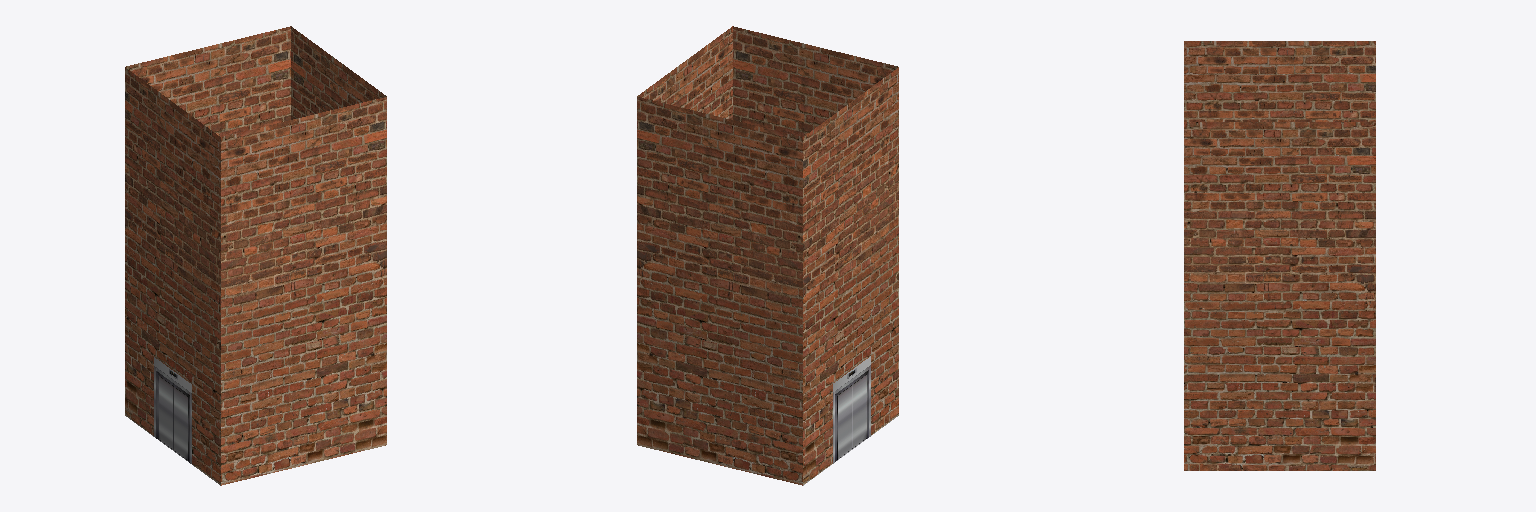
3 views of the same model, side by side, from view 1: azimuth 30°, elevation 25°; view 2: azimuth 150°, elevation 25°; view 3: azimuth 270°, elevation 25° (orthographic).
Parts seen in each view (by area): view 1: Elevador; view 2: Elevador; view 3: Elevador.
Part boxes in pixels (left/top/right/bottom): Elevador: left=125, top=26, right=386, bottom=485; Elevador: left=637, top=26, right=898, bottom=485; Elevador: left=1184, top=41, right=1375, bottom=470.
Size of the model in its own units: 5 by 10 by 5.
Materials: 1 (1 with a texture image).